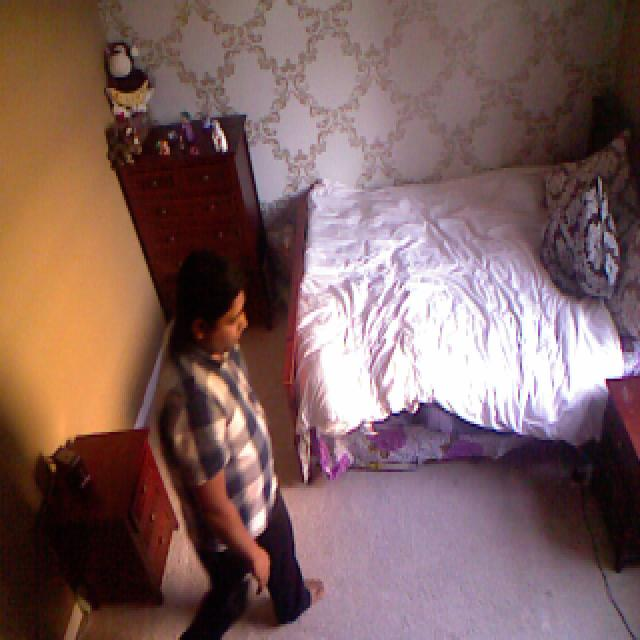standing: (138, 247, 326, 640)
